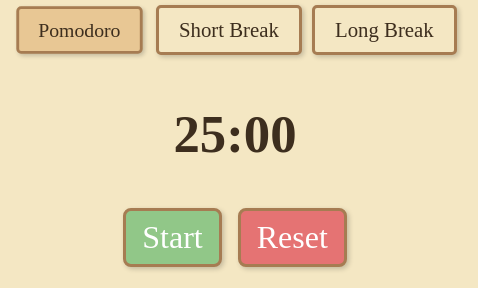
Test case: Timer Component › counts down when started
The width and height of the screenshot is (478, 288).
Click the button "Start" at (172, 237), box [123,208,222,267]
Wait 3000 ms
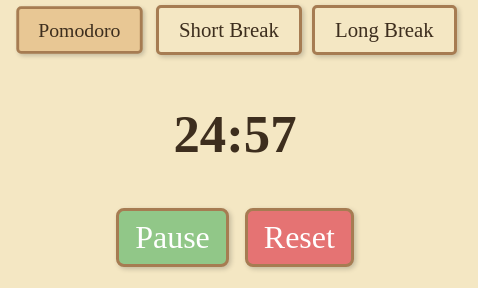
Expected: the heading "24:57" is shown, [173,105,297,163]
